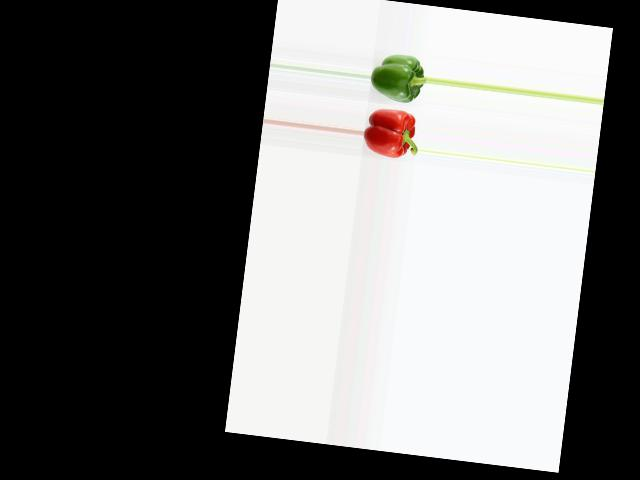bell_pepper: (370, 49, 428, 106)
